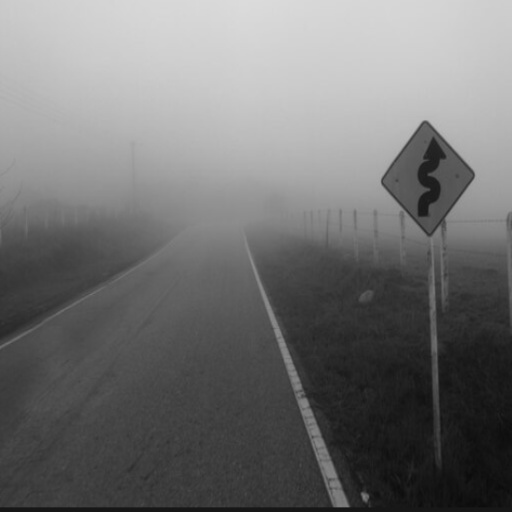Curve Road: (375, 113, 478, 247)
